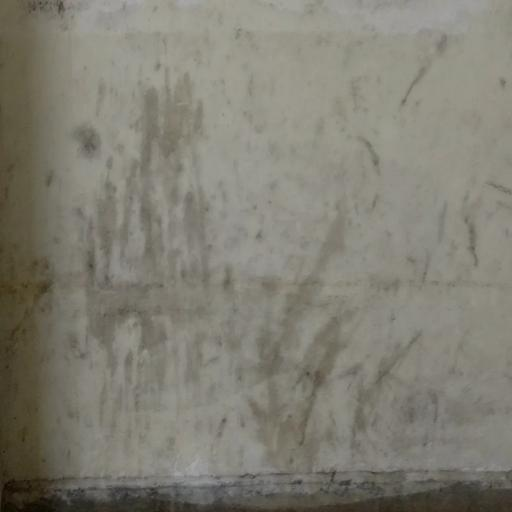stain: (31, 41, 512, 512)
